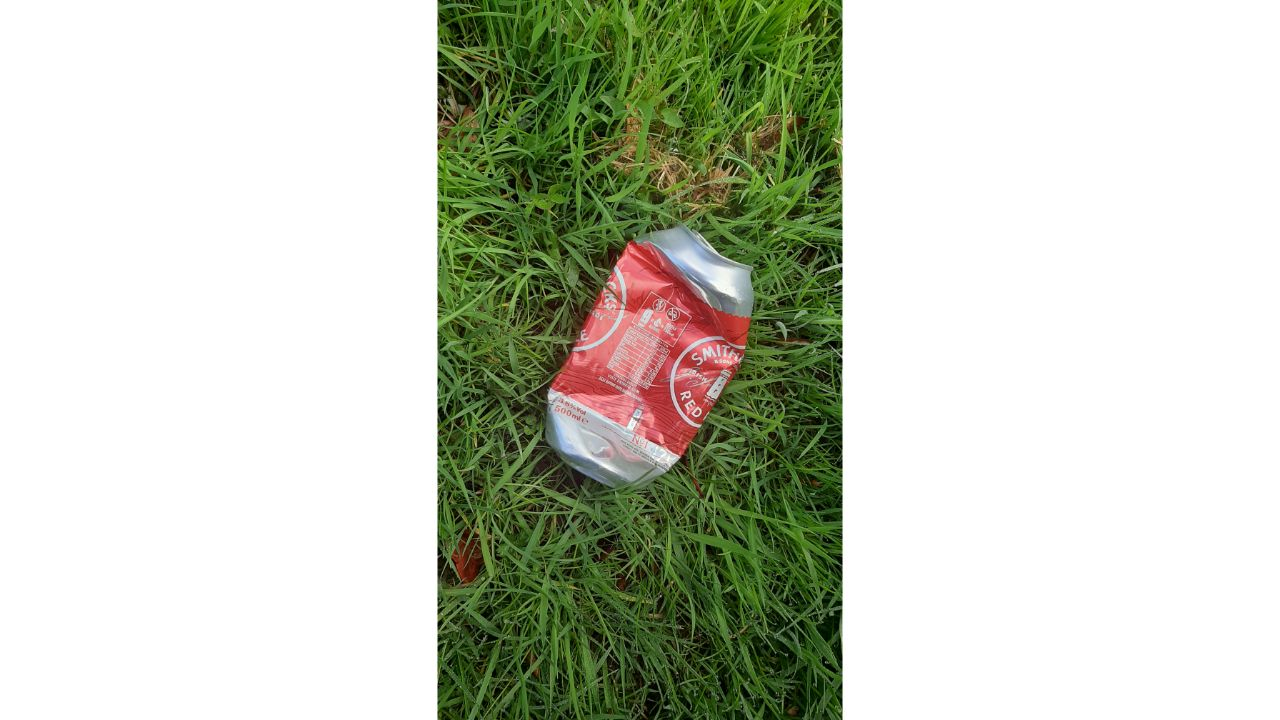Can: (537, 212, 766, 502)
